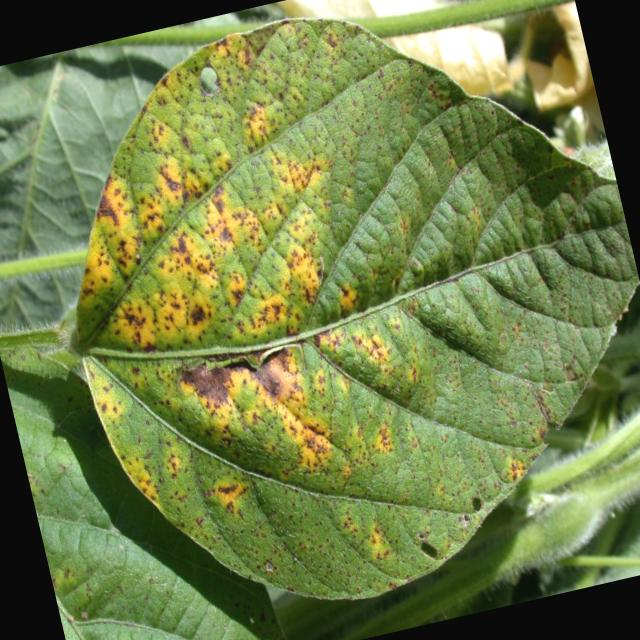leaf_spot: (75, 18, 639, 598)
